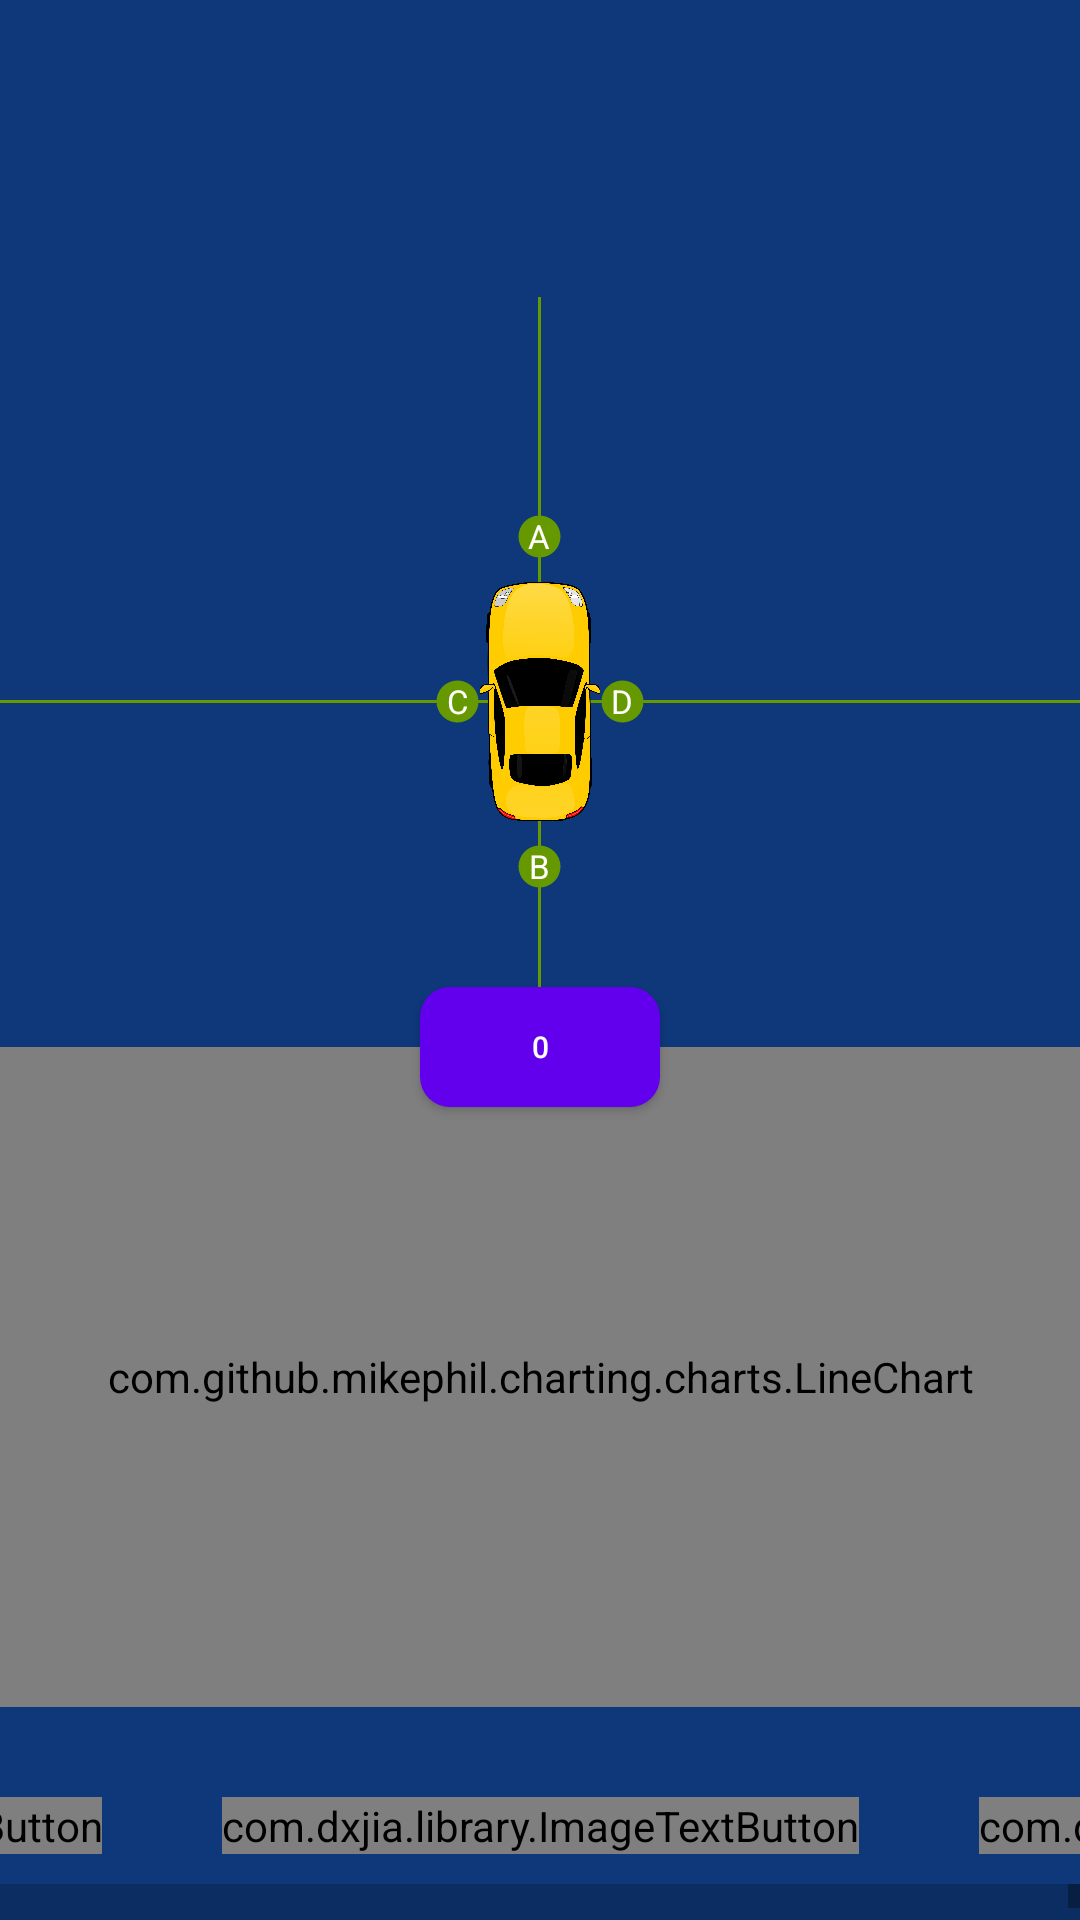

Locate icon controls on the screen. Image size 1080*1920, boxes as bbox=(x1, y1, x2, y2).
car: bbox=(480, 559, 600, 844)
